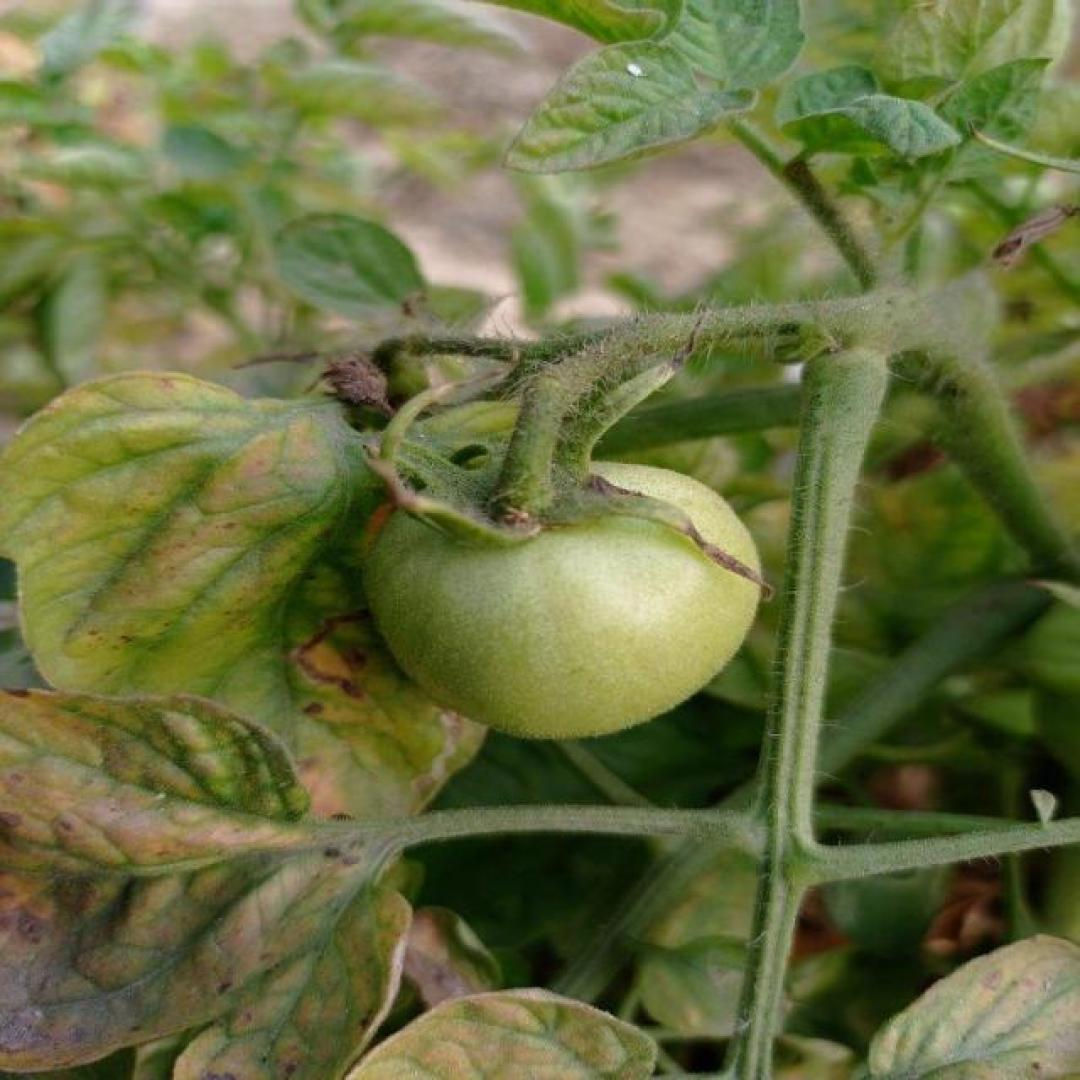mentah: (358, 458, 764, 742)
